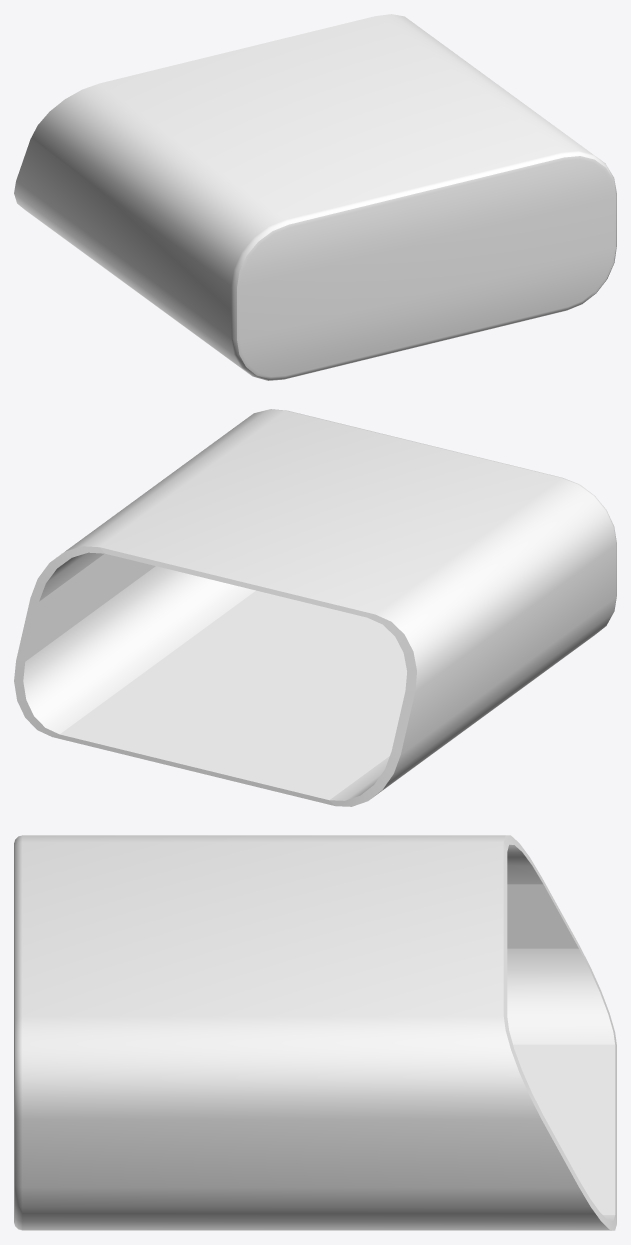
The model's file is usb_hub.glb.
3 views of the same model, one above another, from view 1: azimuth 30°, elevation 25°; view 2: azimuth 150°, elevation 25°; view 3: azimuth 270°, elevation 25° (orthographic). The views are drawn at different scales.
Visible parts, largest first — view 1: Cube.001; view 2: Cube.001; view 3: Cube.001.
Boxes of the visible parts, box(x1,y1,x2,y2) form: Cube.001: box(14, 14, 616, 380); Cube.001: box(14, 409, 616, 806); Cube.001: box(14, 835, 616, 1230).
Bounding box in the file's own units: 0.6181 × 0.2436 × 0.6488.
1 material, 1 textured.
